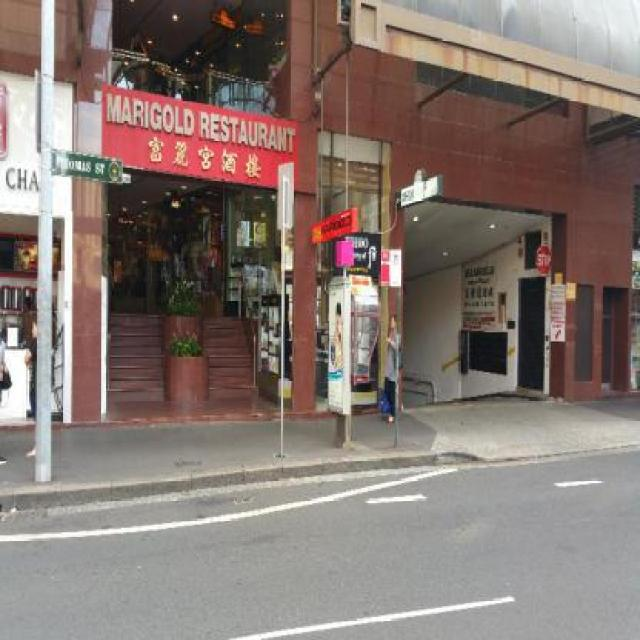Person: (380, 309, 405, 417), (24, 313, 38, 461), (0, 332, 6, 466), (21, 296, 33, 349), (333, 301, 341, 370)
